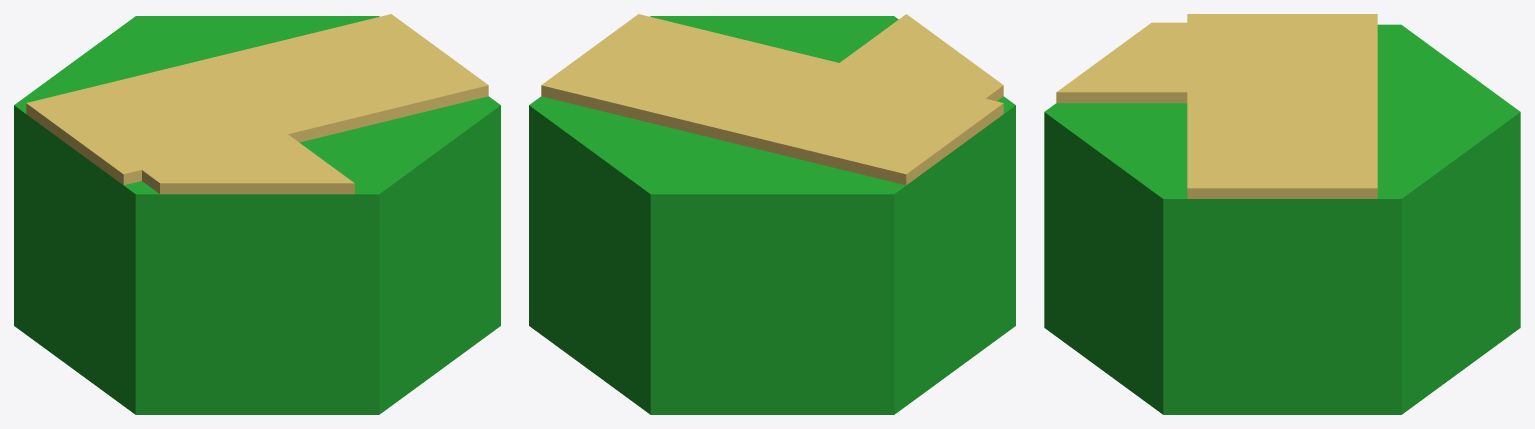
The model's file is path-left_corner.glb.
3 renders of one model, left to right at view 1: azimuth 30°, elevation 25°; view 2: azimuth 150°, elevation 25°; view 3: azimuth 270°, elevation 25°, orthographic. The views are drawn at different scales.
Parts seen in each view (by area): view 1: path-left_corner; view 2: path-left_corner; view 3: path-left_corner.
Part boxes in pixels (bbox=[...]): path-left_corner: bbox=[14, 14, 500, 414]; path-left_corner: bbox=[529, 14, 1015, 414]; path-left_corner: bbox=[1044, 14, 1520, 414].
Bounding box in the file's own units: 0.866 × 0.525 × 1.
